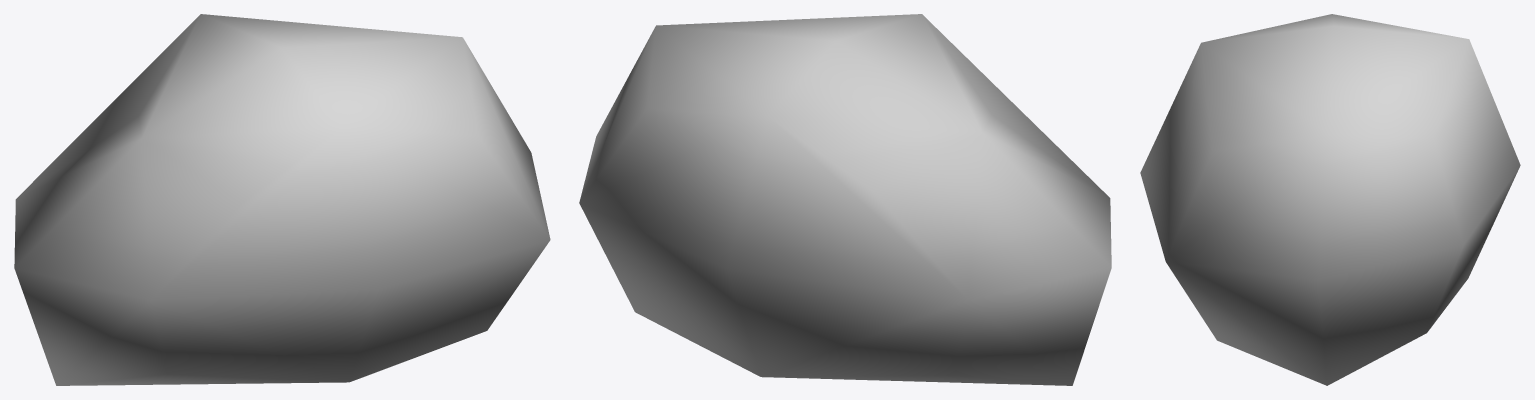
Rendered from Cloud001.glb.
The picture shows the model from 3 angles, left to right: view 1: azimuth 30°, elevation 25°; view 2: azimuth 150°, elevation 25°; view 3: azimuth 270°, elevation 25°; orthographic projection. The views are drawn at different scales.
Parts seen in each view (by area): view 1: Cloud001; view 2: Cloud001; view 3: Cloud001.
Boxes of the visible parts, x1=… form: Cloud001: x1=14, y1=14, x2=550, y2=385; Cloud001: x1=579, y1=14, x2=1111, y2=385; Cloud001: x1=1140, y1=14, x2=1520, y2=385.
Size of the model in its own units: 577 by 343 by 405.
1 material, 1 textured.
